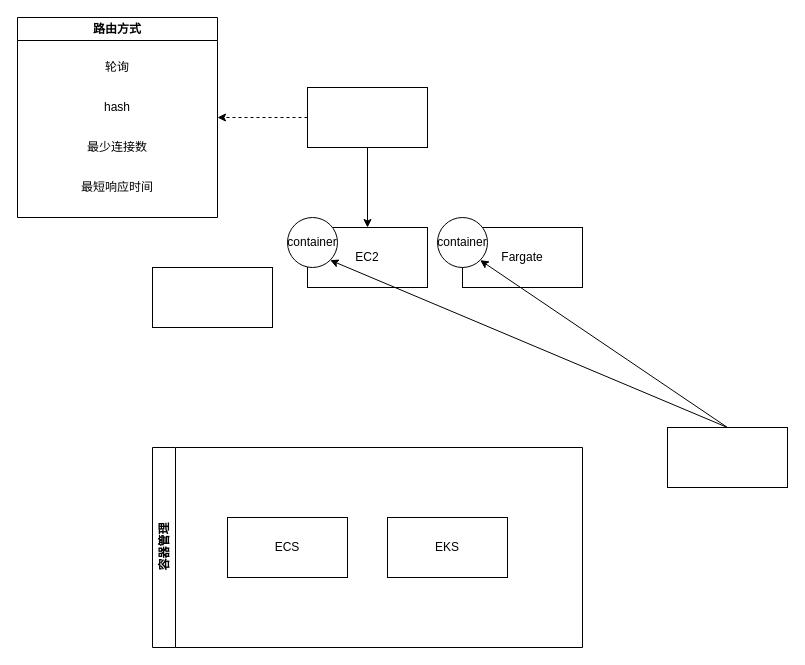
This 805x665 diagram has some shape labels left out. Here are the shapes that lost their labels. From the top down, the centre of each, then its label:
At (367,117): "ELB".
At (212,297): "Lambda".
At (727,457): "ECR".
